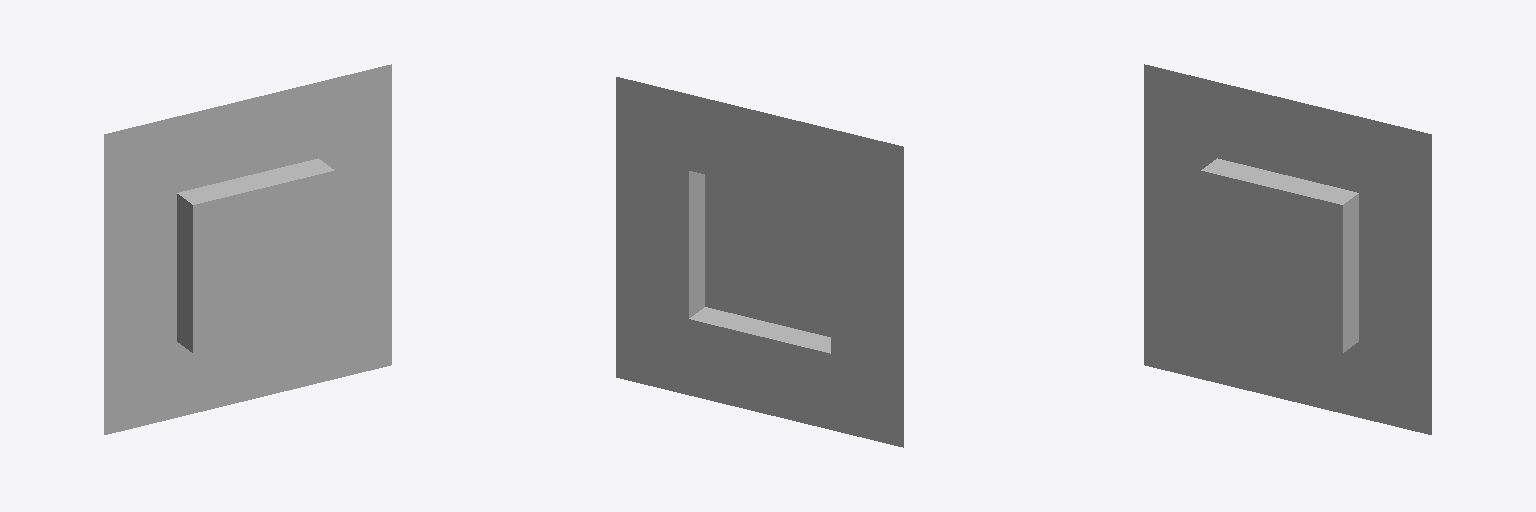
Rendered from wall-a-flat-window.obj.
3 renders of one model, left to right at view 1: azimuth 30°, elevation 25°; view 2: azimuth 150°, elevation 25°; view 3: azimuth 330°, elevation 25°, orthographic.
Parts seen in each view (by area): view 1: wall-a-flat-window; view 2: wall-a-flat-window; view 3: wall-a-flat-window.
Part boxes in pixels (bbox=[...]): wall-a-flat-window: bbox=[104, 64, 391, 434]; wall-a-flat-window: bbox=[616, 77, 903, 447]; wall-a-flat-window: bbox=[1144, 64, 1431, 434].
Bounding box in the file's own units: 1 × 1 × 0.1.